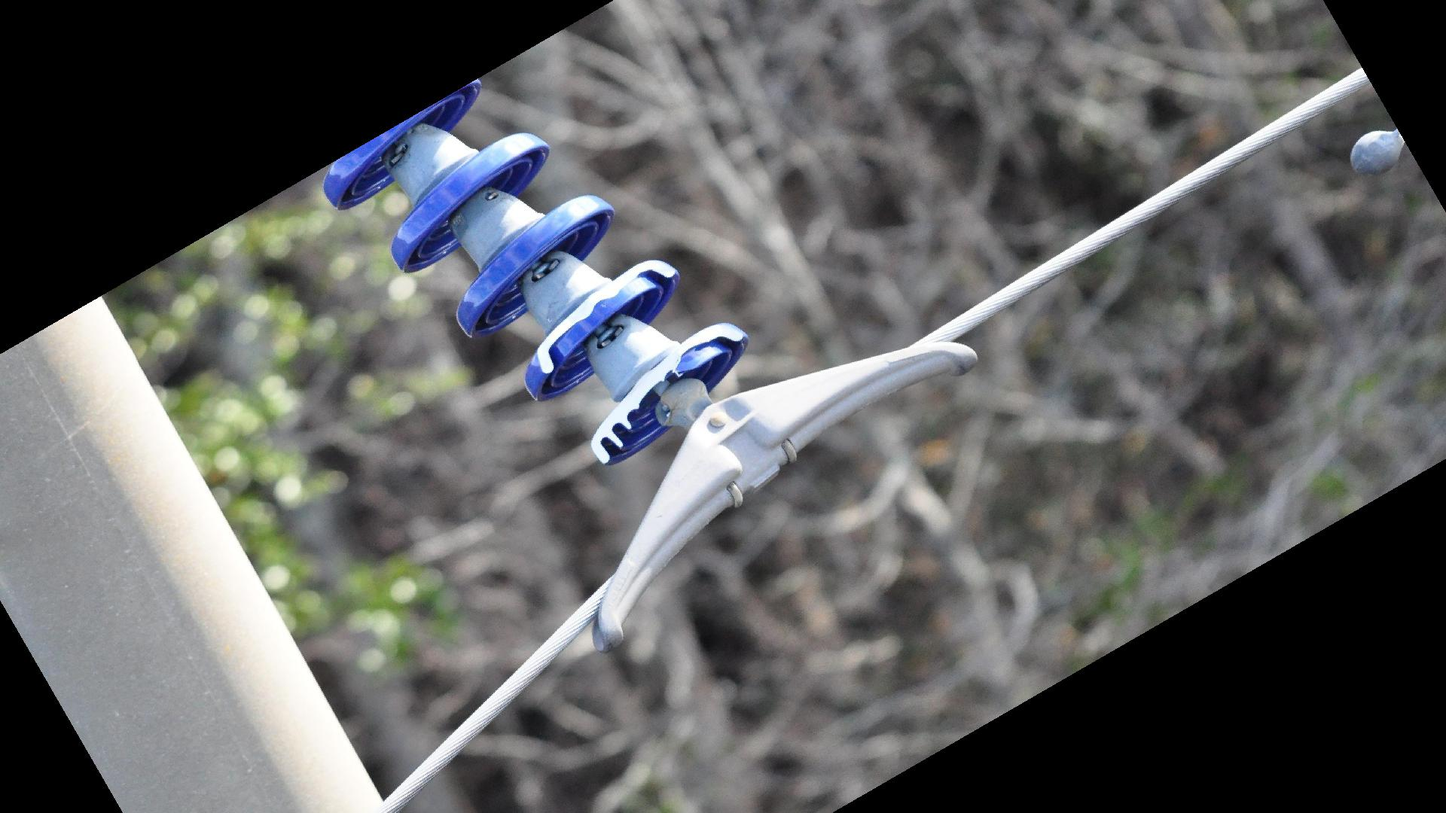insulator: (318, 74, 755, 476)
insulator_breakage: (584, 318, 748, 467), (531, 253, 682, 381)
